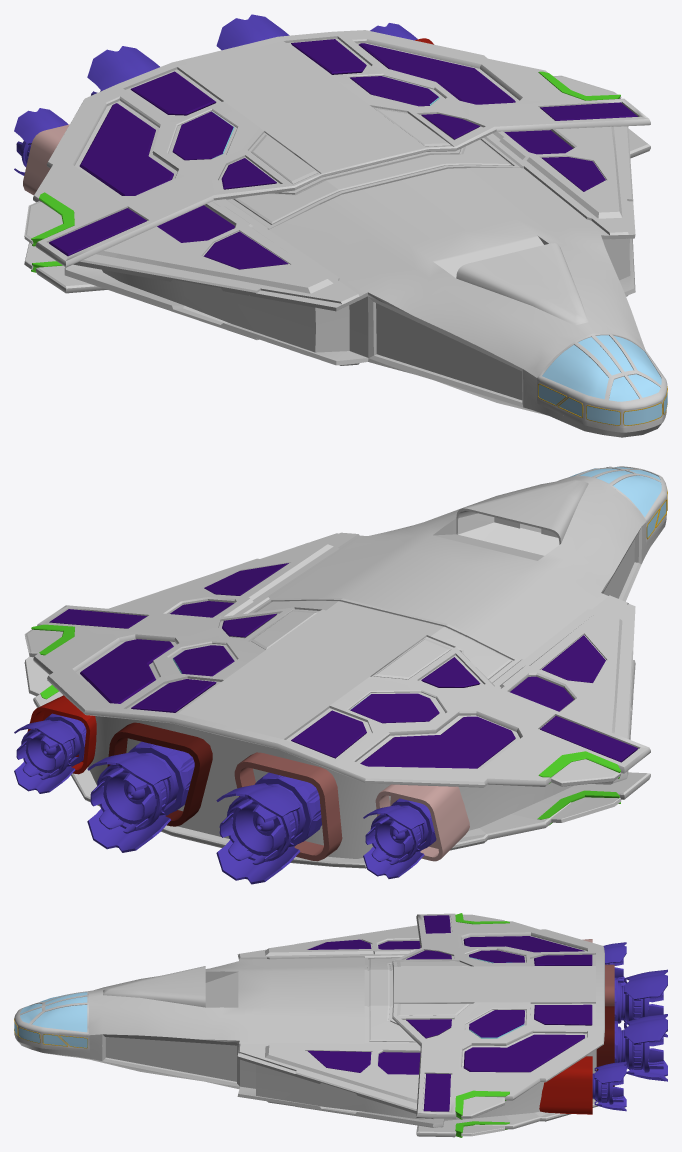
The model's file is Updated_Ship_Internals.fbx.
3 views of the same model, one above another, from view 1: azimuth 30°, elevation 25°; view 2: azimuth 150°, elevation 25°; view 3: azimuth 270°, elevation 25° (orthographic). The views are drawn at different scales.
Parts seen in each view (by area): view 1: ShipHull_Main, AuxHull_PlatingPanels, Cockpit_Windows, ShipHull_WingflapMain, ShipHull_Engine3, ShipHull_Engine2, ThrusterCone_4, ShipHull_Wingflaps_Body, ShipHull_Engine4; view 2: ShipHull_Main, AuxHull_PlatingPanels, ShipHull_Engine2, ShipHull_Engine3, ShipHull_Engine1, ShipHull_Engine4, ThrusterCone_3, ShipHull_WingflapMain, ThrusterCone_4, ThrusterCone_2, Cockpit Ramp, ShipHull_Wingflaps_Body (+2 smaller); view 3: ShipHull_Main, AuxHull_PlatingPanels, ShipHull_Engine2, Cockpit_Windows, ThrusterCone_1, ShipHull_Engine3, ShipHull_Engine1, ShipHull_WingflapMain, ShipHull_Wingflaps_Body, ThrusterCone_2, ShipHull_Engine4, ThrusterCone_3.
Part boxes in pixels (left/top/right/bottom): ShipHull_Main: left=33, top=30, right=667, bottom=437; AuxHull_PlatingPanels: left=49, top=39, right=637, bottom=269; Cockpit_Windows: left=538, top=335, right=667, bottom=425; ShipHull_WingflapMain: left=24, top=75, right=621, bottom=269; ShipHull_Engine3: left=87, top=46, right=159, bottom=95; ShipHull_Engine2: left=216, top=14, right=289, bottom=50; ThrusterCone_4: left=23, top=124, right=69, bottom=195; ShipHull_Wingflaps_Body: left=31, top=71, right=620, bottom=272; ShipHull_Engine4: left=14, top=108, right=68, bottom=175; ShipHull_Main: left=33, top=466, right=667, bottom=868; AuxHull_PlatingPanels: left=49, top=563, right=637, bottom=768; ShipHull_Engine2: left=87, top=741, right=194, bottom=852; ShipHull_Engine3: left=216, top=772, right=321, bottom=884; ShipHull_Engine1: left=14, top=713, right=86, bottom=793; ShipHull_Engine4: left=363, top=798, right=436, bottom=878; ThrusterCone_3: left=234, top=752, right=342, bottom=861; ShipHull_WingflapMain: left=24, top=629, right=621, bottom=822; ThrusterCone_4: left=375, top=784, right=469, bottom=861; ThrusterCone_2: left=107, top=722, right=212, bottom=826; Cockpit Ramp: left=456, top=513, right=560, bottom=555; ShipHull_Wingflaps_Body: left=31, top=624, right=620, bottom=825; ShipHull_Main: left=14, top=913, right=604, bottom=1137; AuxHull_PlatingPanels: left=307, top=915, right=592, bottom=1111; ShipHull_Engine2: left=614, top=1014, right=667, bottom=1081; Cockpit_Windows: left=14, top=992, right=87, bottom=1047; ThrusterCone_1: left=539, top=1056, right=592, bottom=1114; ShipHull_Engine3: left=614, top=969, right=667, bottom=1037; ShipHull_Engine1: left=592, top=1061, right=626, bottom=1111; ShipHull_WingflapMain: left=461, top=914, right=504, bottom=1136; ShipHull_Wingflaps_Body: left=455, top=913, right=509, bottom=1137; ThrusterCone_2: left=596, top=1006, right=614, bottom=1086; ShipHull_Engine4: left=603, top=942, right=626, bottom=985; ThrusterCone_3: left=605, top=964, right=614, bottom=1006.
Size of the model in its own units: 3885 by 772 by 5319.
